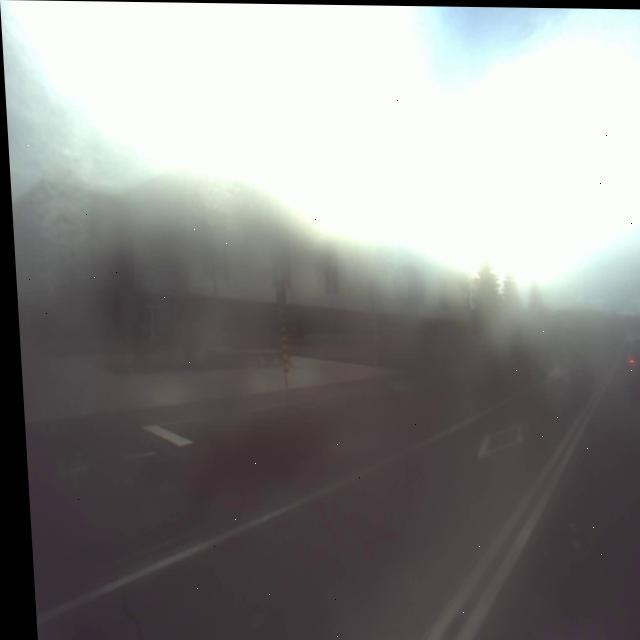car: (613, 322, 640, 401)
